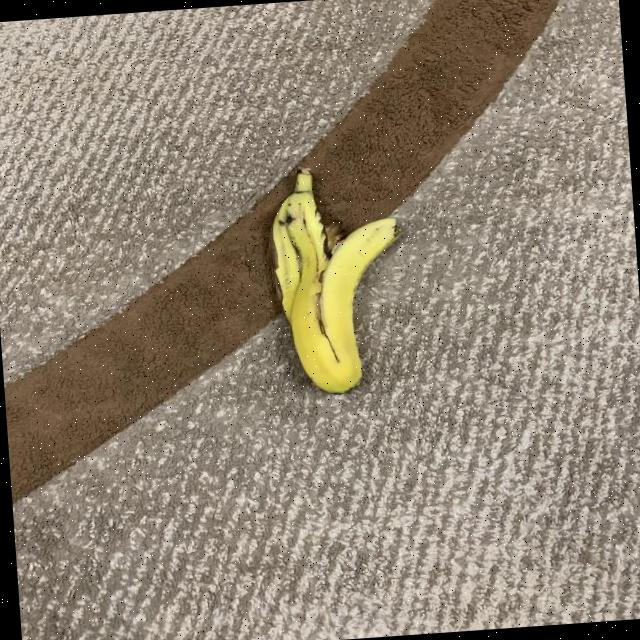banana-peel: (264, 160, 411, 398)
